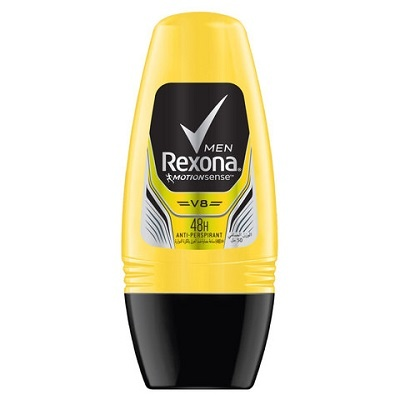rexona: (118, 5, 275, 388)
